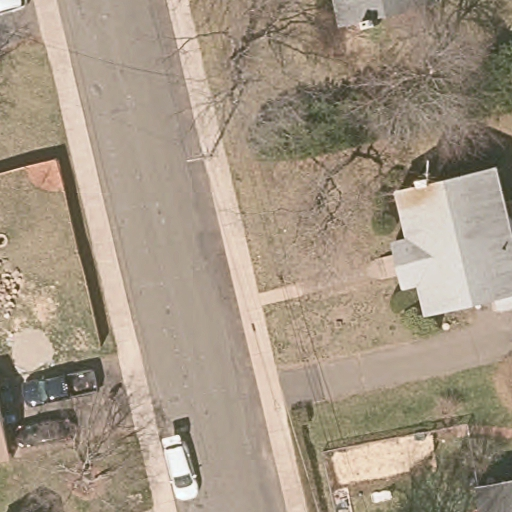DT: (185, 111, 232, 168)
